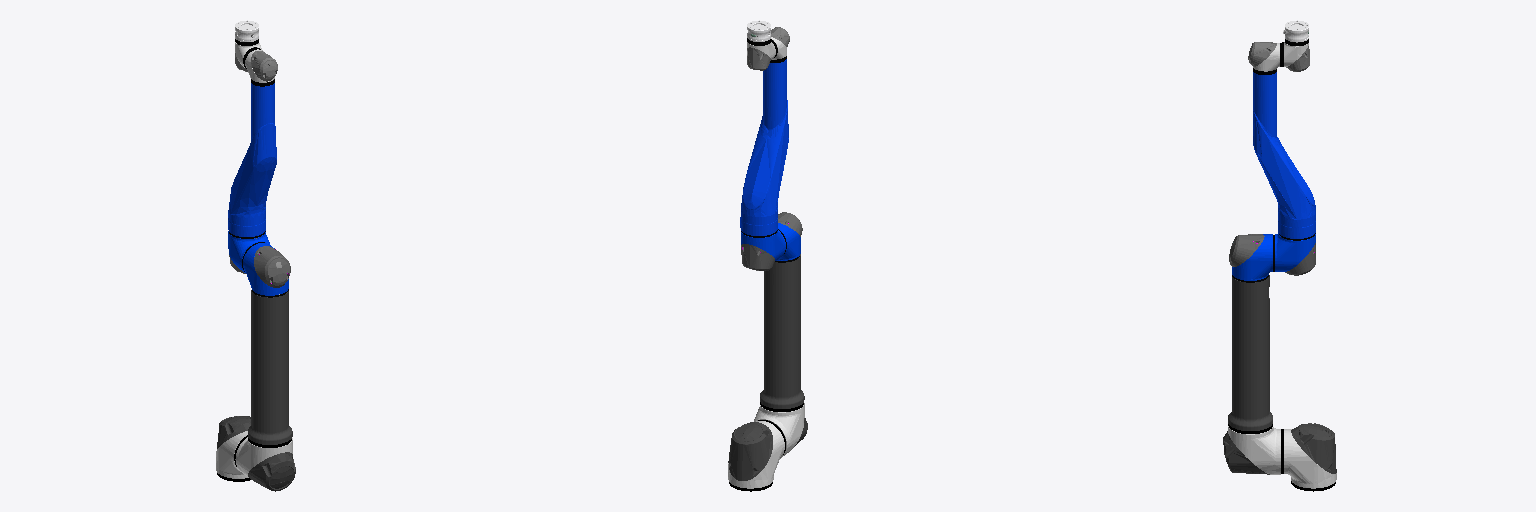
robot.urdf — rb20_1900es:
<?xml version="1.0" ?>
<!-- =================================================================================== -->
<!-- |    This document was autogenerated by xacro from rb20_1900es.urdf.xacro         | -->
<!-- |    EDITING THIS FILE BY HAND IS NOT RECOMMENDED                                 | -->
<!-- =================================================================================== -->
<robot name="rb20_1900es">
  <link name="link0">
    <visual>
      <geometry>
        <mesh filename="package://rbpodo_description/meshes/rb20_1900es/visual/link0.dae"/>
      </geometry>
    </visual>
    <collision>
      <geometry>
        <mesh filename="package://rbpodo_description/meshes/rb20_1900es/collision/link0.stl"/>
      </geometry>
    </collision>
  </link>
  <link name="link1">
    <visual>
      <geometry>
        <mesh filename="package://rbpodo_description/meshes/rb20_1900es/visual/link1.dae"/>
      </geometry>
    </visual>
    <collision>
      <geometry>
        <mesh filename="package://rbpodo_description/meshes/rb20_1900es/collision/link1.stl"/>
      </geometry>
    </collision>
    <inertial>
      <origin rpy="0 0 0" xyz="0.000 -0.008 -0.056"/>
      <mass value="15.48"/>
      <inertia ixx="0.084" ixy="0.0" ixz="0.0" iyy="0.084" iyz="0.006" izz="0.067"/>
    </inertial>
  </link>
  <link name="link2">
    <visual>
      <geometry>
        <mesh filename="package://rbpodo_description/meshes/rb20_1900es/visual/link2.dae"/>
      </geometry>
    </visual>
    <collision>
      <geometry>
        <mesh filename="package://rbpodo_description/meshes/rb20_1900es/collision/link2.stl"/>
      </geometry>
    </collision>
    <inertial>
      <origin rpy="0 0 0" xyz="-0.000 -0.217 0.341"/>
      <mass value="32.79"/>
      <inertia ixx="4.81" ixy="0.0" ixz="0.0" iyy="4.773" iyz="0.104" izz="0.175"/>
    </inertial>
  </link>
  <link name="link3">
    <visual>
      <geometry>
        <mesh filename="package://rbpodo_description/meshes/rb20_1900es/visual/link3.dae"/>
      </geometry>
    </visual>
    <collision>
      <geometry>
        <mesh filename="package://rbpodo_description/meshes/rb20_1900es/collision/link3.stl"/>
      </geometry>
    </collision>
    <inertial>
      <origin rpy="0 0 0" xyz="0.0 -0.008 0.042"/>
      <mass value="8.371"/>
      <inertia ixx="0.027" ixy="0.0" ixz="0.0" iyy="0.028" iyz="-0.003" izz="0.026"/>
    </inertial>
  </link>
  <link name="link4">
    <visual>
      <geometry>
        <mesh filename="package://rbpodo_description/meshes/rb20_1900es/visual/link4.dae"/>
      </geometry>
    </visual>
    <collision>
      <geometry>
        <mesh filename="package://rbpodo_description/meshes/rb20_1900es/collision/link4.stl"/>
      </geometry>
    </collision>
    <inertial>
      <origin rpy="0 0 0" xyz="0.0 -0.068 0.505"/>
      <mass value="8.14"/>
      <inertia ixx="0.718" ixy="0.0" ixz="0.0" iyy="0.696" iyz="0.099" izz="0.046"/>
    </inertial>
  </link>
  <link name="link5">
    <visual>
      <geometry>
        <mesh filename="package://rbpodo_description/meshes/rb20_1900es/visual/link5.dae"/>
      </geometry>
    </visual>
    <collision>
      <geometry>
        <mesh filename="package://rbpodo_description/meshes/rb20_1900es/collision/link5.stl"/>
      </geometry>
    </collision>
    <inertial>
      <origin rpy="0 0 0" xyz="0.0 0.0 0.035"/>
      <mass value="1.924"/>
      <inertia ixx="0.002" ixy="0.0" ixz="0.0" iyy="0.002" iyz="0.0" izz="0.002"/>
    </inertial>
  </link>
  <link name="link6">
    <visual>
      <geometry>
        <mesh filename="package://rbpodo_description/meshes/rb20_1900es/visual/link6.dae"/>
      </geometry>
    </visual>
    <collision>
      <geometry>
        <mesh filename="package://rbpodo_description/meshes/rb20_1900es/collision/link6.stl"/>
      </geometry>
    </collision>
    <inertial>
      <origin rpy="0 0 0" xyz="0.000 0.000 0.104"/>
      <mass value="0.588"/>
      <inertia ixx="0.001" ixy="0.0" ixz="0.0" iyy="0.001" iyz="0.0" izz="0.001"/>
    </inertial>
  </link>
  <link name="tcp"/>
  <joint name="base" type="revolute">
    <origin rpy="0 0 0" xyz="0 0 0.241"/>
    <parent link="link0"/>
    <child link="link1"/>
    <axis xyz="0 0 1"/>
    <limit effort="10" lower="-3.14" upper="3.14" velocity="3.14"/>
  </joint>
  <joint name="shoulder" type="revolute">
    <origin rpy="0 0 0" xyz="0 -0.2545 0"/>
    <parent link="link1"/>
    <child link="link2"/>
    <axis xyz="0 1 0"/>
    <limit effort="10" lower="-3.14" upper="3.14" velocity="3.14"/>
  </joint>
  <joint name="elbow" type="revolute">
    <origin rpy="0 0 0" xyz="0 0 0.885"/>
    <parent link="link2"/>
    <child link="link3"/>
    <axis xyz="0 1 0"/>
    <limit effort="10" lower="-3.14" upper="3.14" velocity="3.14"/>
  </joint>
  <joint name="wrist1" type="revolute">
    <origin rpy="0 0 0" xyz="0 0.1875 0"/>
    <parent link="link3"/>
    <child link="link4"/>
    <axis xyz="0 0 1"/>
    <limit effort="10" lower="-3.14" upper="3.14" velocity="3.14"/>
  </joint>
  <joint name="wrist2" type="revolute">
    <origin rpy="0 0 0" xyz="0 -0.1292 0.885"/>
    <parent link="link4"/>
    <child link="link5"/>
    <axis xyz="0 1 0"/>
    <limit effort="10" lower="-3.14" upper="3.14" velocity="3.14"/>
  </joint>
  <joint name="wrist3" type="revolute">
    <origin rpy="0 0 0" xyz="0 0.1292 0"/>
    <parent link="link5"/>
    <child link="link6"/>
    <axis xyz="0 0 1"/>
    <limit effort="10" lower="-3.14" upper="3.14" velocity="3.14"/>
  </joint>
  <joint name="tcp_joint" type="fixed">
    <origin rpy="0 0 0" xyz="0 -0.1153 0"/>
    <parent link="link6"/>
    <child link="tcp"/>
  </joint>
  <ros2_control name="RBPodoHardwareInterface" type="system">
    <hardware>
      <plugin>mock_components/GenericSystem</plugin>
      <param name="mock_sensor_commands">False</param>
      <param name="state_following_offset">0.0</param>
    </hardware>
    <joint name="base">
      <param name="initial_position">0.0</param>
      <param name="torque_constant">1</param>
      <command_interface name="effort"/>
      <command_interface name="velocity"/>
      <command_interface name="position"/>
      <state_interface name="position"/>
      <state_interface name="effort"/>
    </joint>
    <joint name="shoulder">
      <param name="initial_position">0.0</param>
      <param name="torque_constant">1</param>
      <command_interface name="effort"/>
      <command_interface name="velocity"/>
      <command_interface name="position"/>
      <state_interface name="position"/>
      <state_interface name="effort"/>
    </joint>
    <joint name="elbow">
      <param name="initial_position">0.0</param>
      <param name="torque_constant">1</param>
      <command_interface name="effort"/>
      <command_interface name="velocity"/>
      <command_interface name="position"/>
      <state_interface name="position"/>
      <state_interface name="effort"/>
    </joint>
    <joint name="wrist1">
      <param name="initial_position">0.0</param>
      <param name="torque_constant">1</param>
      <command_interface name="effort"/>
      <command_interface name="velocity"/>
      <command_interface name="position"/>
      <state_interface name="position"/>
      <state_interface name="effort"/>
    </joint>
    <joint name="wrist2">
      <param name="initial_position">0.0</param>
      <param name="torque_constant">1</param>
      <command_interface name="effort"/>
      <command_interface name="velocity"/>
      <command_interface name="position"/>
      <state_interface name="position"/>
      <state_interface name="effort"/>
    </joint>
    <joint name="wrist3">
      <param name="initial_position">0.0</param>
      <param name="torque_constant">1</param>
      <command_interface name="effort"/>
      <command_interface name="velocity"/>
      <command_interface name="position"/>
      <state_interface name="position"/>
      <state_interface name="effort"/>
    </joint>
  </ros2_control>
</robot>

--- Render facts (derived) ---
The picture shows the robot from 3 angles, left to right: view 1: azimuth 30°, elevation 25°; view 2: azimuth 150°, elevation 25°; view 3: azimuth 270°, elevation 25°; orthographic projection.
Model rb20_1900es with 8 links and 7 joints (6 revolute, 1 fixed), rooted at link0, posed every joint at zero.
Visible links, largest first — view 1: link2, link4, link1, link3; view 2: link2, link4, link1, link3, link5; view 3: link2, link4, link1, link3, link5.
Boxes of the visible links, bbox=[...] form: link2: bbox=[234, 242, 295, 491]; link4: bbox=[228, 47, 277, 236]; link1: bbox=[216, 416, 250, 481]; link3: bbox=[228, 231, 269, 273]; link2: bbox=[754, 212, 807, 458]; link4: bbox=[740, 27, 789, 235]; link1: bbox=[728, 421, 784, 491]; link3: bbox=[741, 230, 785, 270]; link5: bbox=[747, 38, 775, 70]; link2: bbox=[1223, 234, 1283, 474]; link4: bbox=[1248, 42, 1315, 238]; link1: bbox=[1284, 423, 1336, 491]; link3: bbox=[1275, 233, 1315, 275]; link5: bbox=[1284, 39, 1309, 71].
Bounding box of the posed robot: 0.1864 × 0.4582 × 2.04 m (x, y, z).
6 mesh visuals loaded from 7 distinct referenced files (6 Collada DAE); not drawn: 1 (reference not matched to a file when rendering).